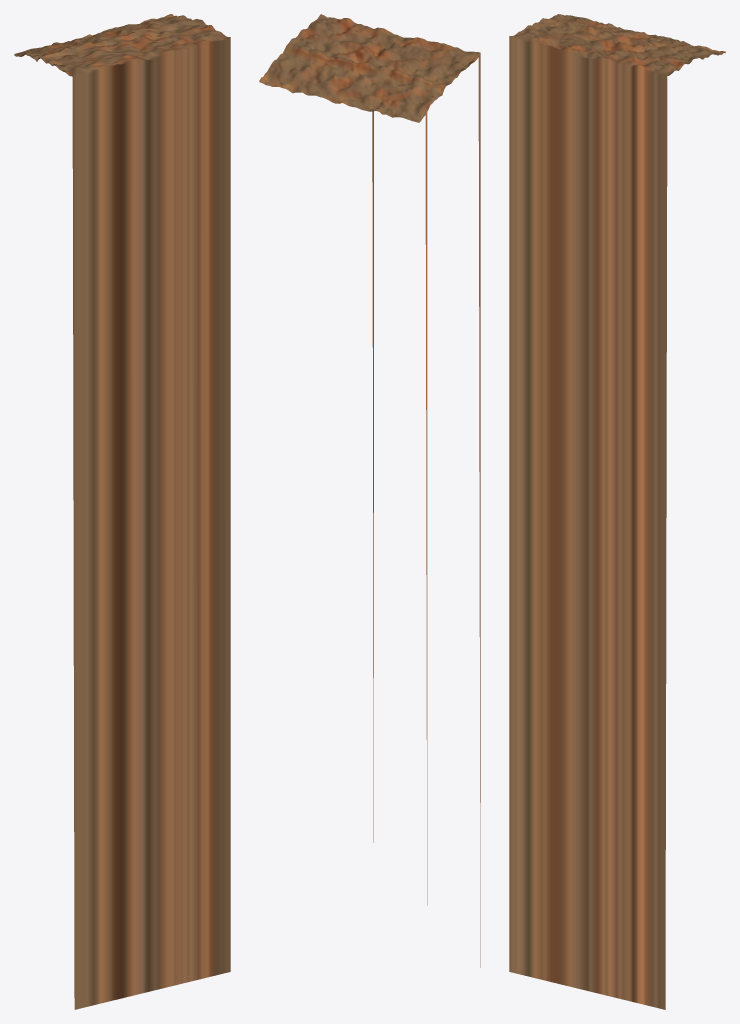
The model's file is terrain-149.glb.
3 renders of one model, left to right at view 1: azimuth 30°, elevation 25°; view 2: azimuth 150°, elevation 25°; view 3: azimuth 330°, elevation 25°, orthographic. The views are drawn at different scales.
Visible parts, largest first — view 1: terrain-149; view 2: terrain-149; view 3: terrain-149.
Part boxes in pixels (x1=…): terrain-149: x1=14, y1=14, x2=230, y2=1009; terrain-149: x1=259, y1=14, x2=480, y2=967; terrain-149: x1=509, y1=14, x2=725, y2=1009.
Bounding box in the file's own units: 384 × 2205 × 256.
